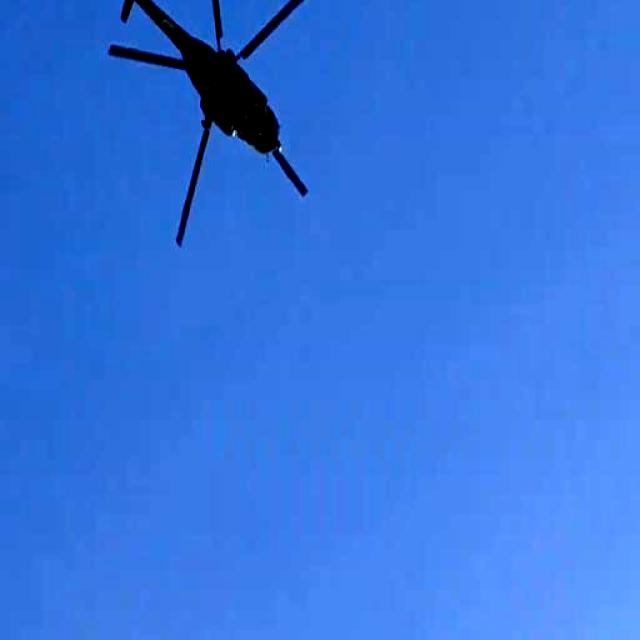drone: (104, 0, 330, 256)
